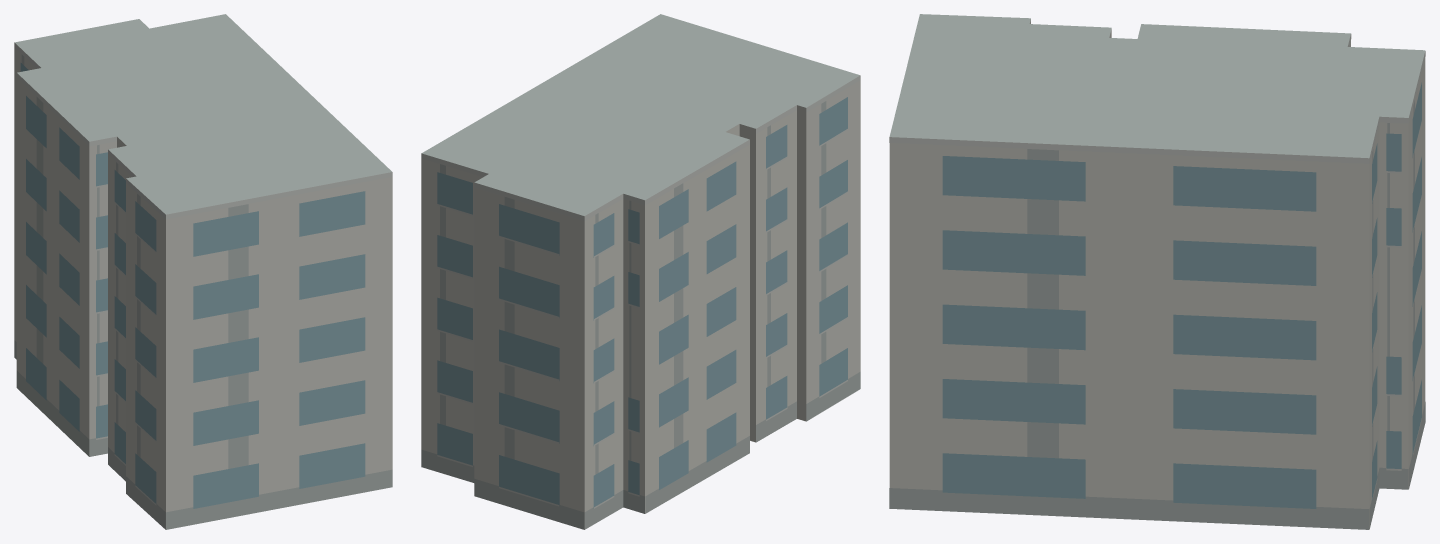
The model's file is survey-upis-32867943.glb.
The picture shows the model from 3 angles, left to right: view 1: azimuth 30°, elevation 25°; view 2: azimuth 150°, elevation 25°; view 3: azimuth 270°, elevation 25°; orthographic projection. The views are drawn at different scales.
Visible parts, largest first — view 1: survey-upis-32867943.tmp; view 2: survey-upis-32867943.tmp; view 3: survey-upis-32867943.tmp.
Part boxes in pixels (x1=…): survey-upis-32867943.tmp: x1=14, y1=14, x2=392, y2=529; survey-upis-32867943.tmp: x1=421, y1=14, x2=860, y2=529; survey-upis-32867943.tmp: x1=889, y1=14, x2=1425, y2=529.
Size of the model in its own units: 12.88 by 15.48 by 20.24.
